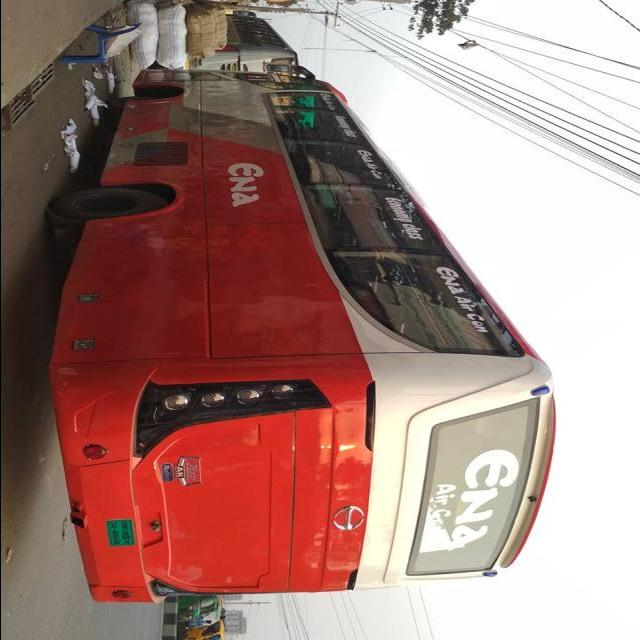bus: (42, 63, 560, 608)
